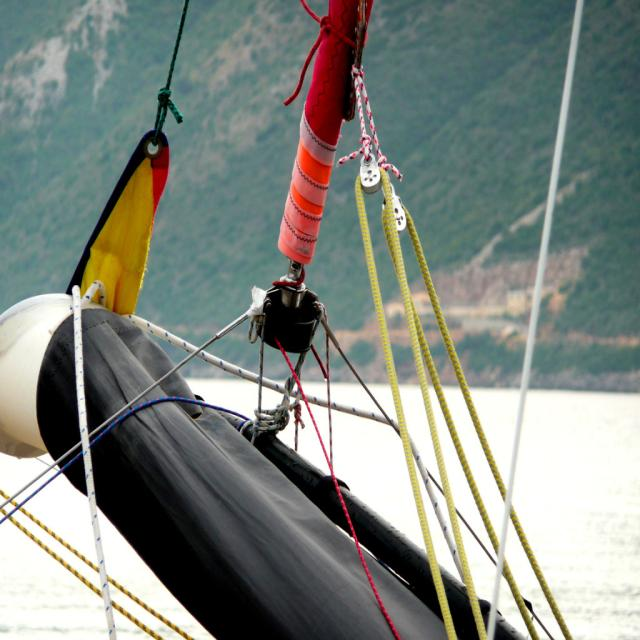Boat: (11, 0, 637, 639)
